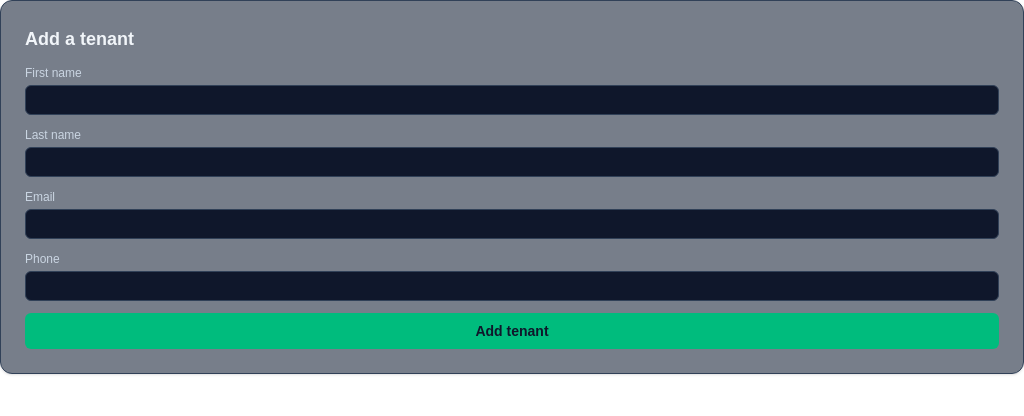
Test: AddTenantForm › validates that first and last name are required
The width and height of the screenshot is (1024, 416).
Step 1. Click the button "Add tenant" → coordinates (512, 331), box [25,313,999,349]
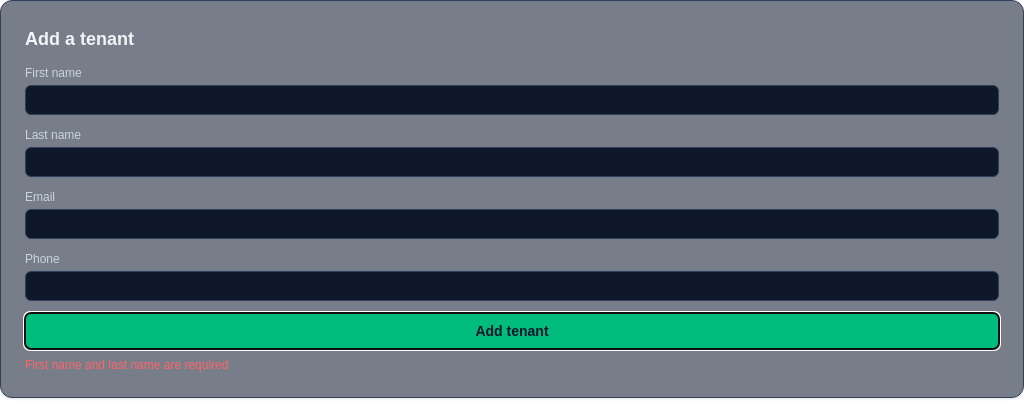
Result: the text "First name and last name are required" is shown at [25,358,228,372]
